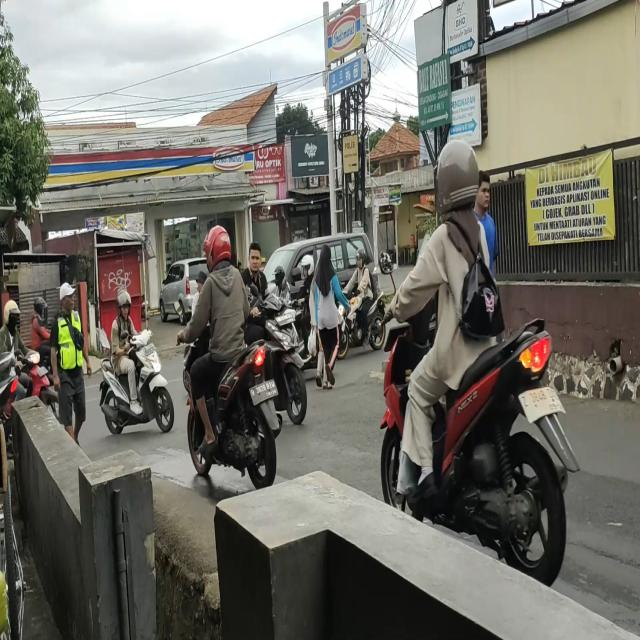helmet: (435, 138, 483, 215), (200, 225, 232, 272), (117, 294, 134, 326), (4, 299, 20, 326), (300, 256, 314, 277), (357, 248, 368, 267), (35, 296, 47, 312)
no-helmet: (249, 242, 263, 269)
